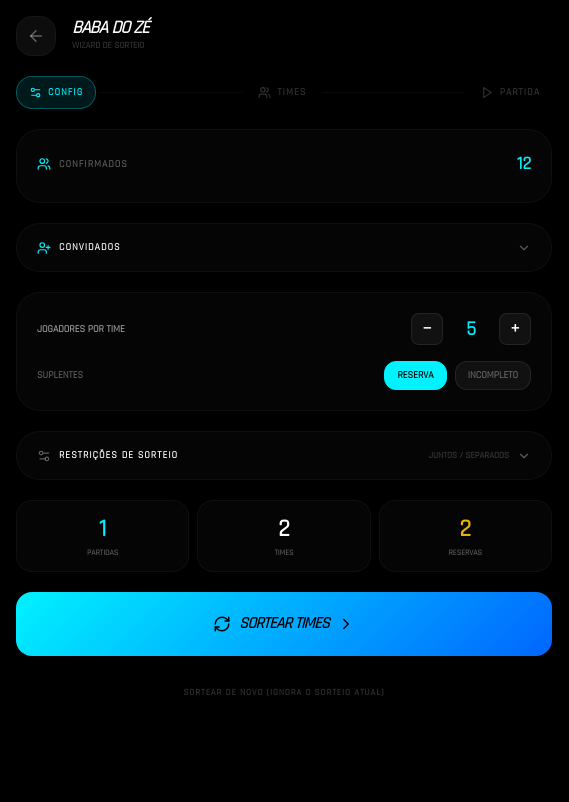
DrawPage — fluxo de sorteio › step 2 exibe os times sorteados
Click the button "Sortear Times". click: x=284, y=624
box: [16,592,552,656]
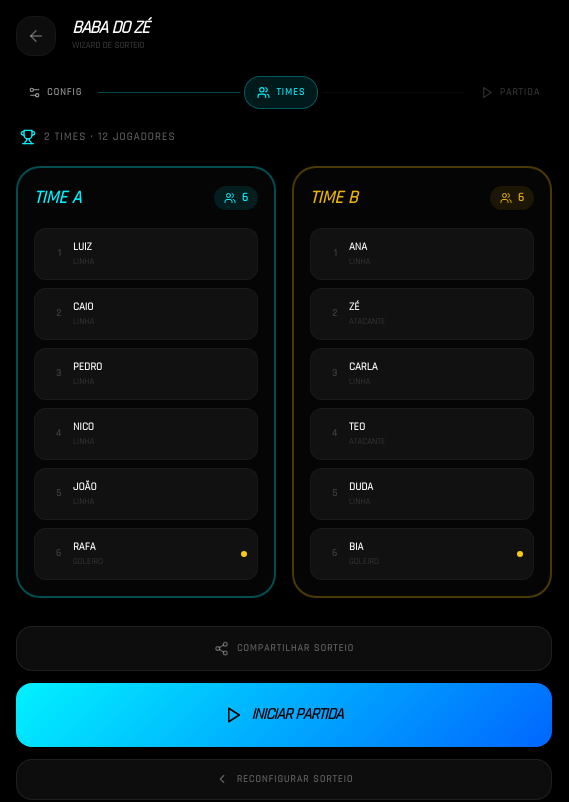
Expected: the heading "Time A" is shown, [34,184,81,212]
Expected: the heading "Time B" is shown, [310,184,358,212]
